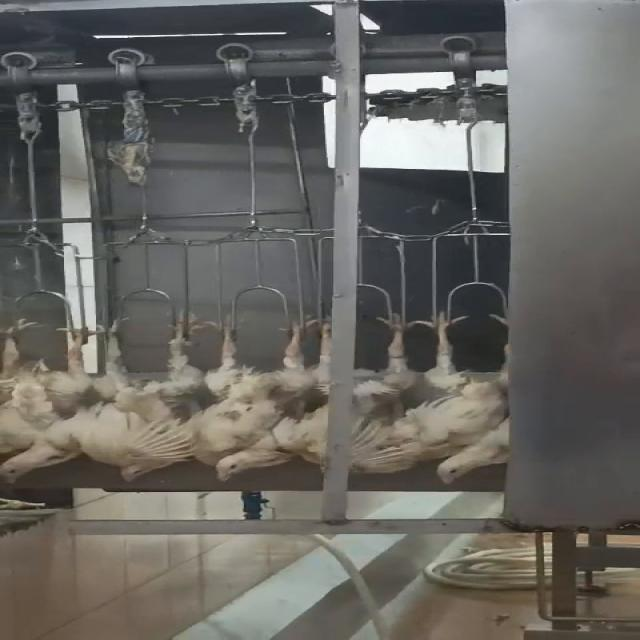chicken: (180, 307, 314, 486), (89, 306, 205, 485), (0, 313, 112, 490), (292, 310, 411, 473), (391, 307, 507, 473), (432, 421, 523, 487)
